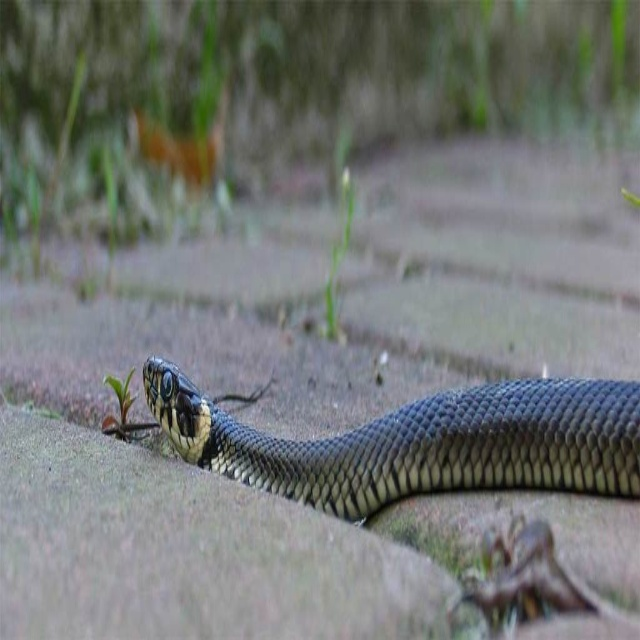Snake: (143, 361, 640, 519)
